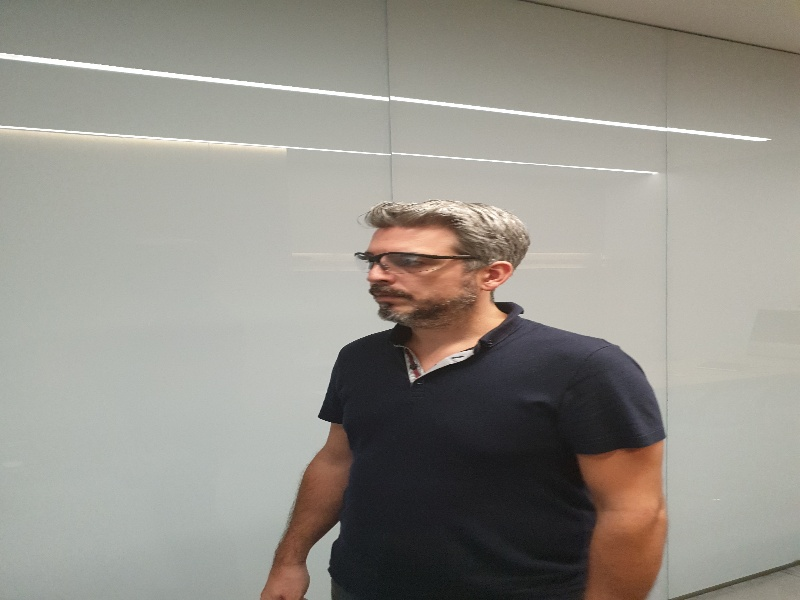Gozluk: (353, 251, 478, 273)
